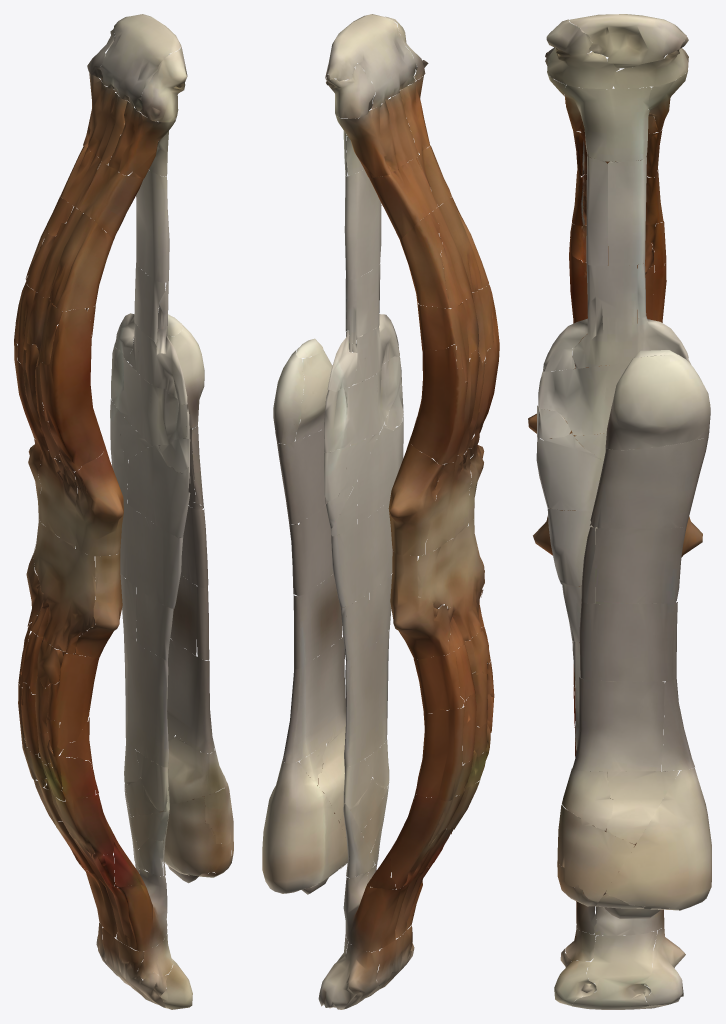
The model's file is bow0.glb.
The picture shows the model from 3 angles, left to right: view 1: azimuth 30°, elevation 25°; view 2: azimuth 150°, elevation 25°; view 3: azimuth 270°, elevation 25°; orthographic projection. The views are drawn at different scales.
Parts seen in each view (by area): view 1: bow0; view 2: bow0; view 3: bow0.
Part boxes in pixels (x1,y1,x2,y2): bow0: (14, 14, 233, 1009); bow0: (262, 14, 499, 1009); bow0: (528, 14, 711, 1009).
Size of the model in its own units: 0.2069 by 1 by 0.1675.
Materials: 1 (1 with a texture image).
